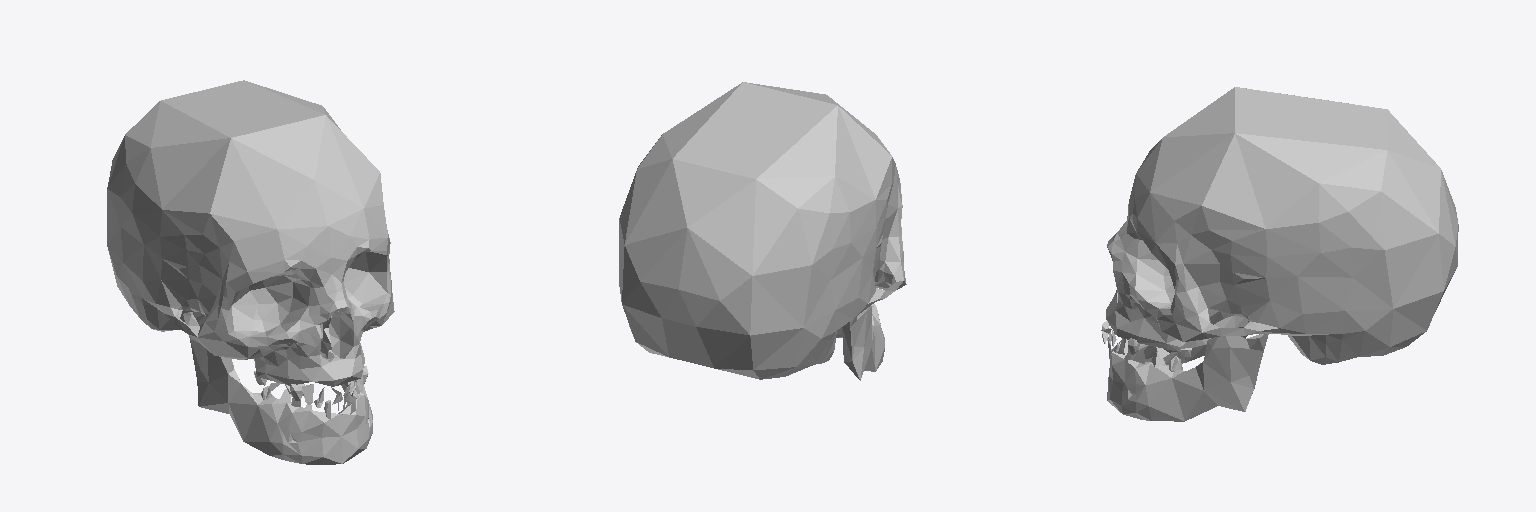
Rendered from Skull.obj.
3 views of the same model, side by side, from view 1: azimuth 30°, elevation 25°; view 2: azimuth 150°, elevation 25°; view 3: azimuth 270°, elevation 25° (orthographic).
Visible parts, largest first — view 1: 12140_Skull_v3_L2; view 2: 12140_Skull_v3_L2; view 3: 12140_Skull_v3_L2.
Boxes of the visible parts, <box> form: 12140_Skull_v3_L2: <box>107,80,394,464</box>; 12140_Skull_v3_L2: <box>619,82,906,380</box>; 12140_Skull_v3_L2: <box>1101,87,1458,421</box>.
Bounding box in the file's own units: 19.64 × 26.48 × 29.36.